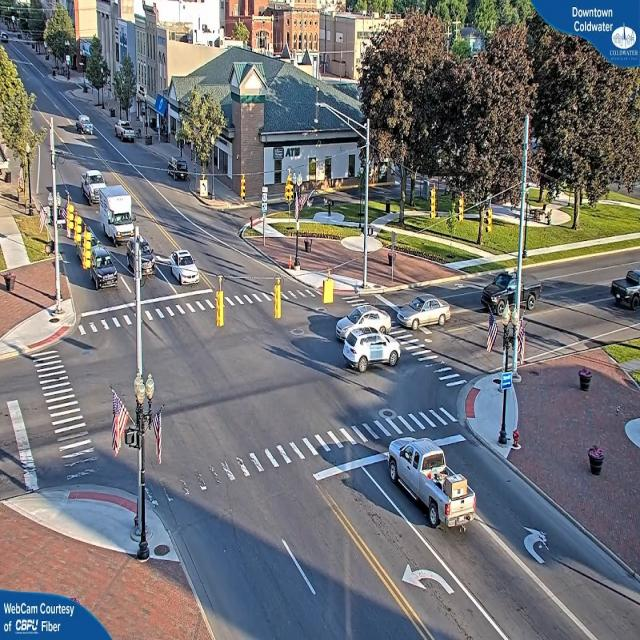car: (385, 438, 476, 538), (339, 326, 398, 372), (478, 269, 543, 307), (399, 292, 450, 326), (336, 302, 388, 334), (90, 245, 118, 292), (167, 250, 200, 286), (125, 238, 156, 276), (612, 278, 640, 309), (81, 170, 105, 203), (165, 158, 189, 180), (116, 124, 136, 143), (70, 117, 90, 135)
truck: (102, 184, 138, 245)
